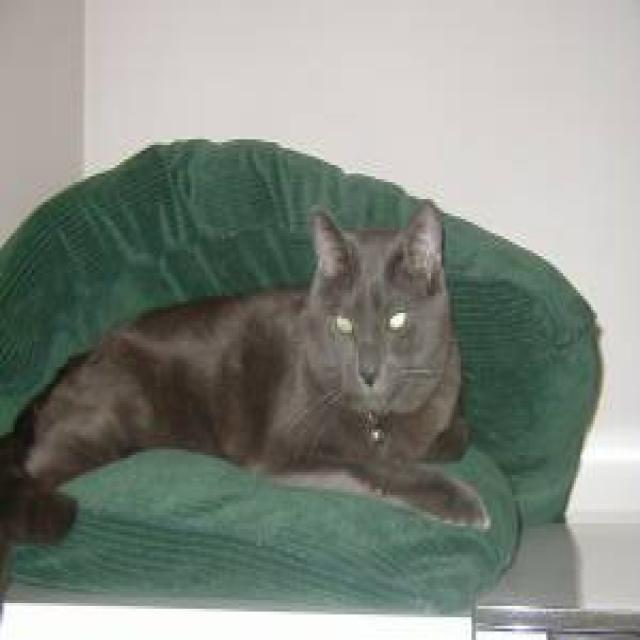Russian_Blue: (305, 190, 466, 419)
